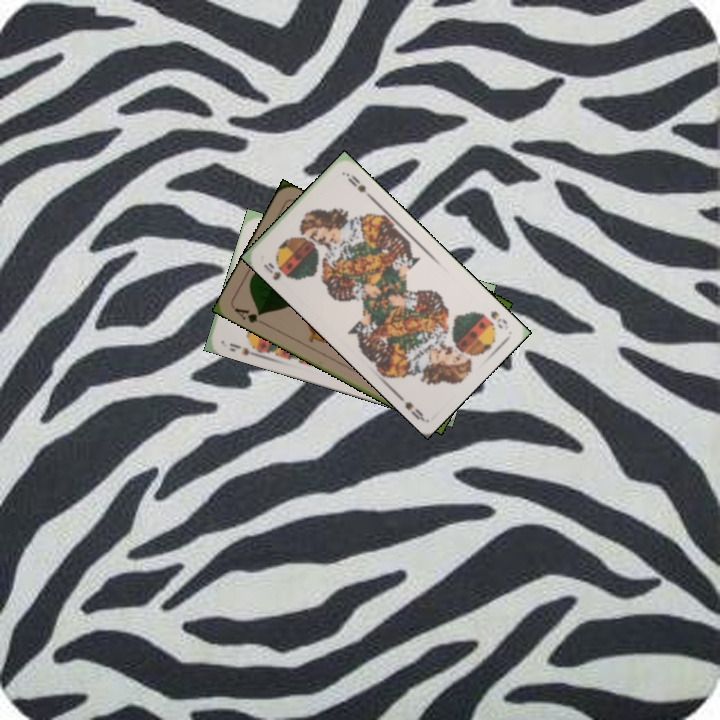GA: (230, 304, 268, 327)
S9: (225, 339, 261, 359)
SO: (259, 258, 284, 283), (486, 307, 510, 331)
